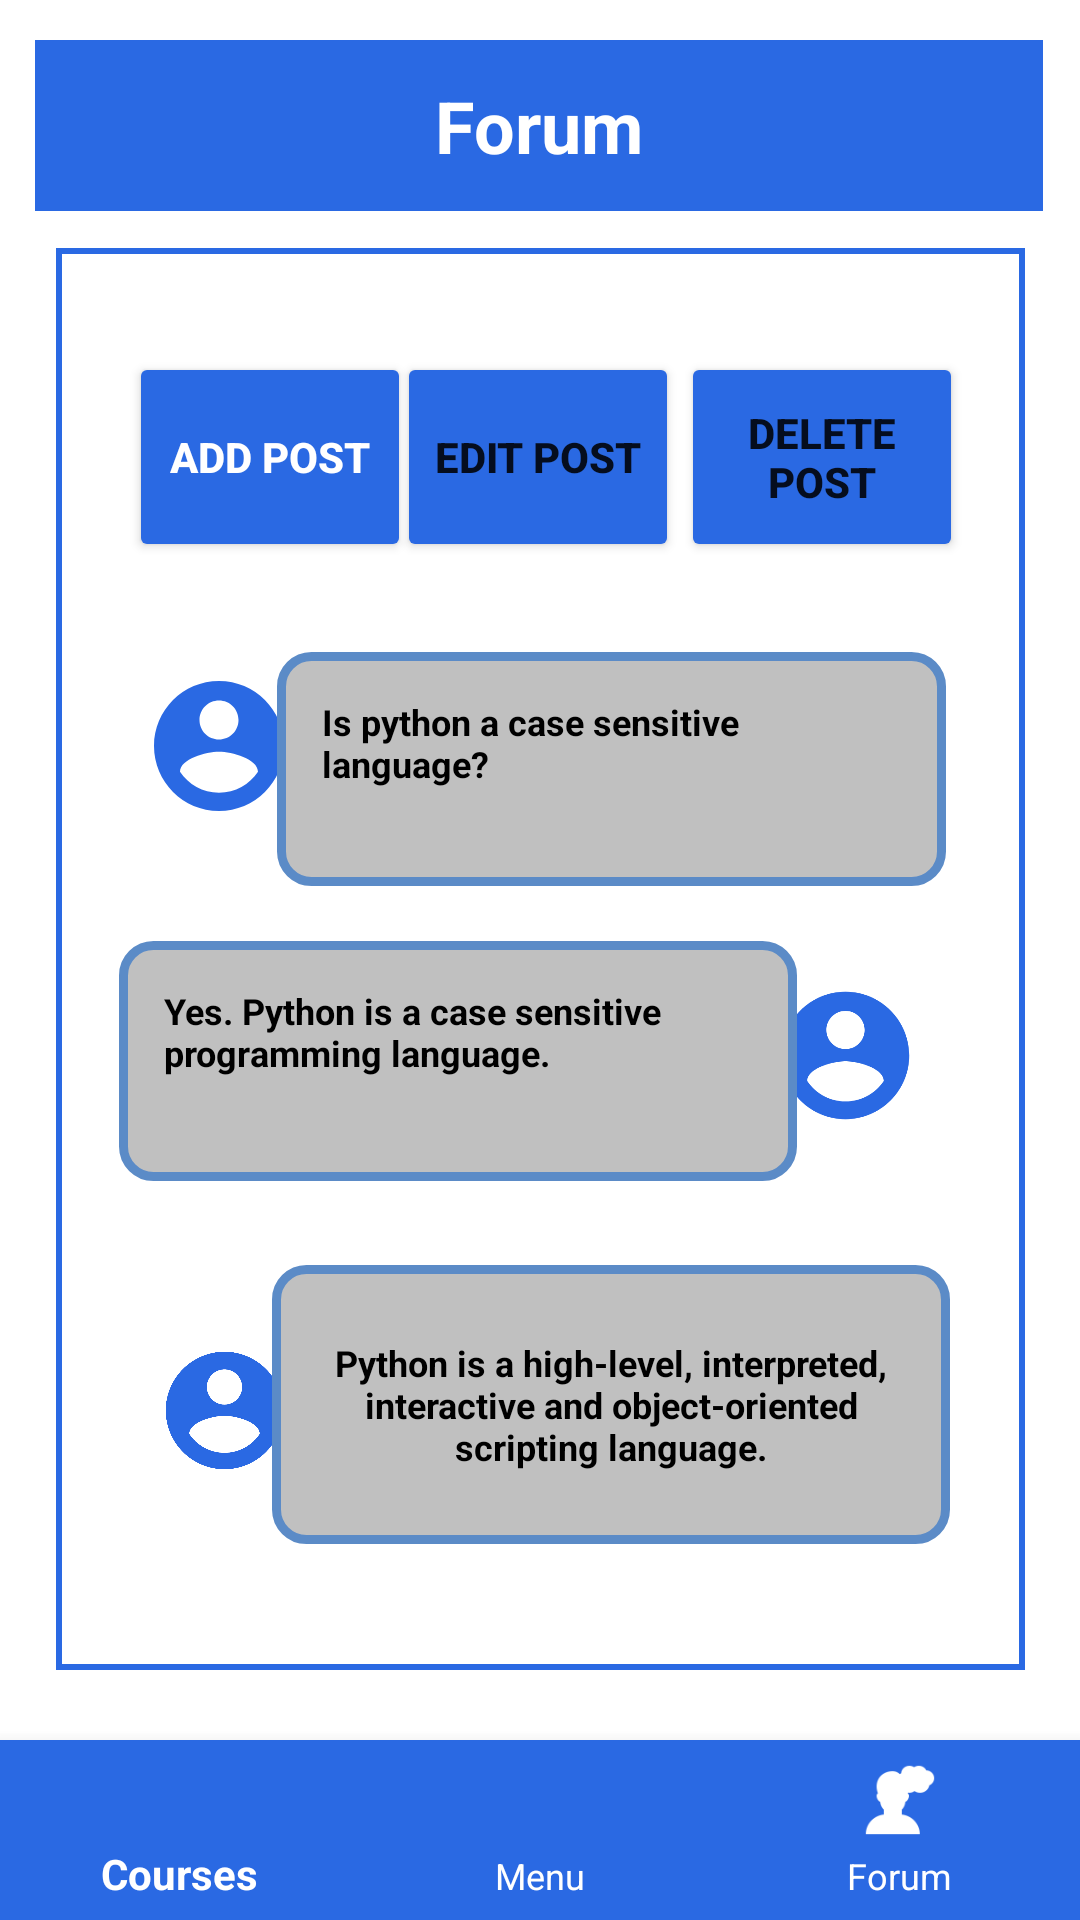

Icons on this 1080×1920 Android screen, each with its box as (x1, y1, x2, y2):
account: (154, 656, 297, 836)
